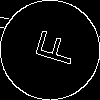F: (25, 25, 78, 68)
